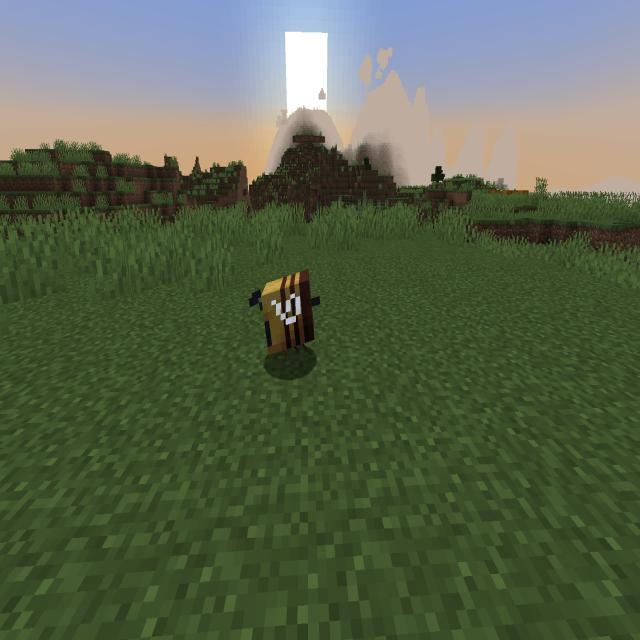bee: (242, 257, 330, 385)
